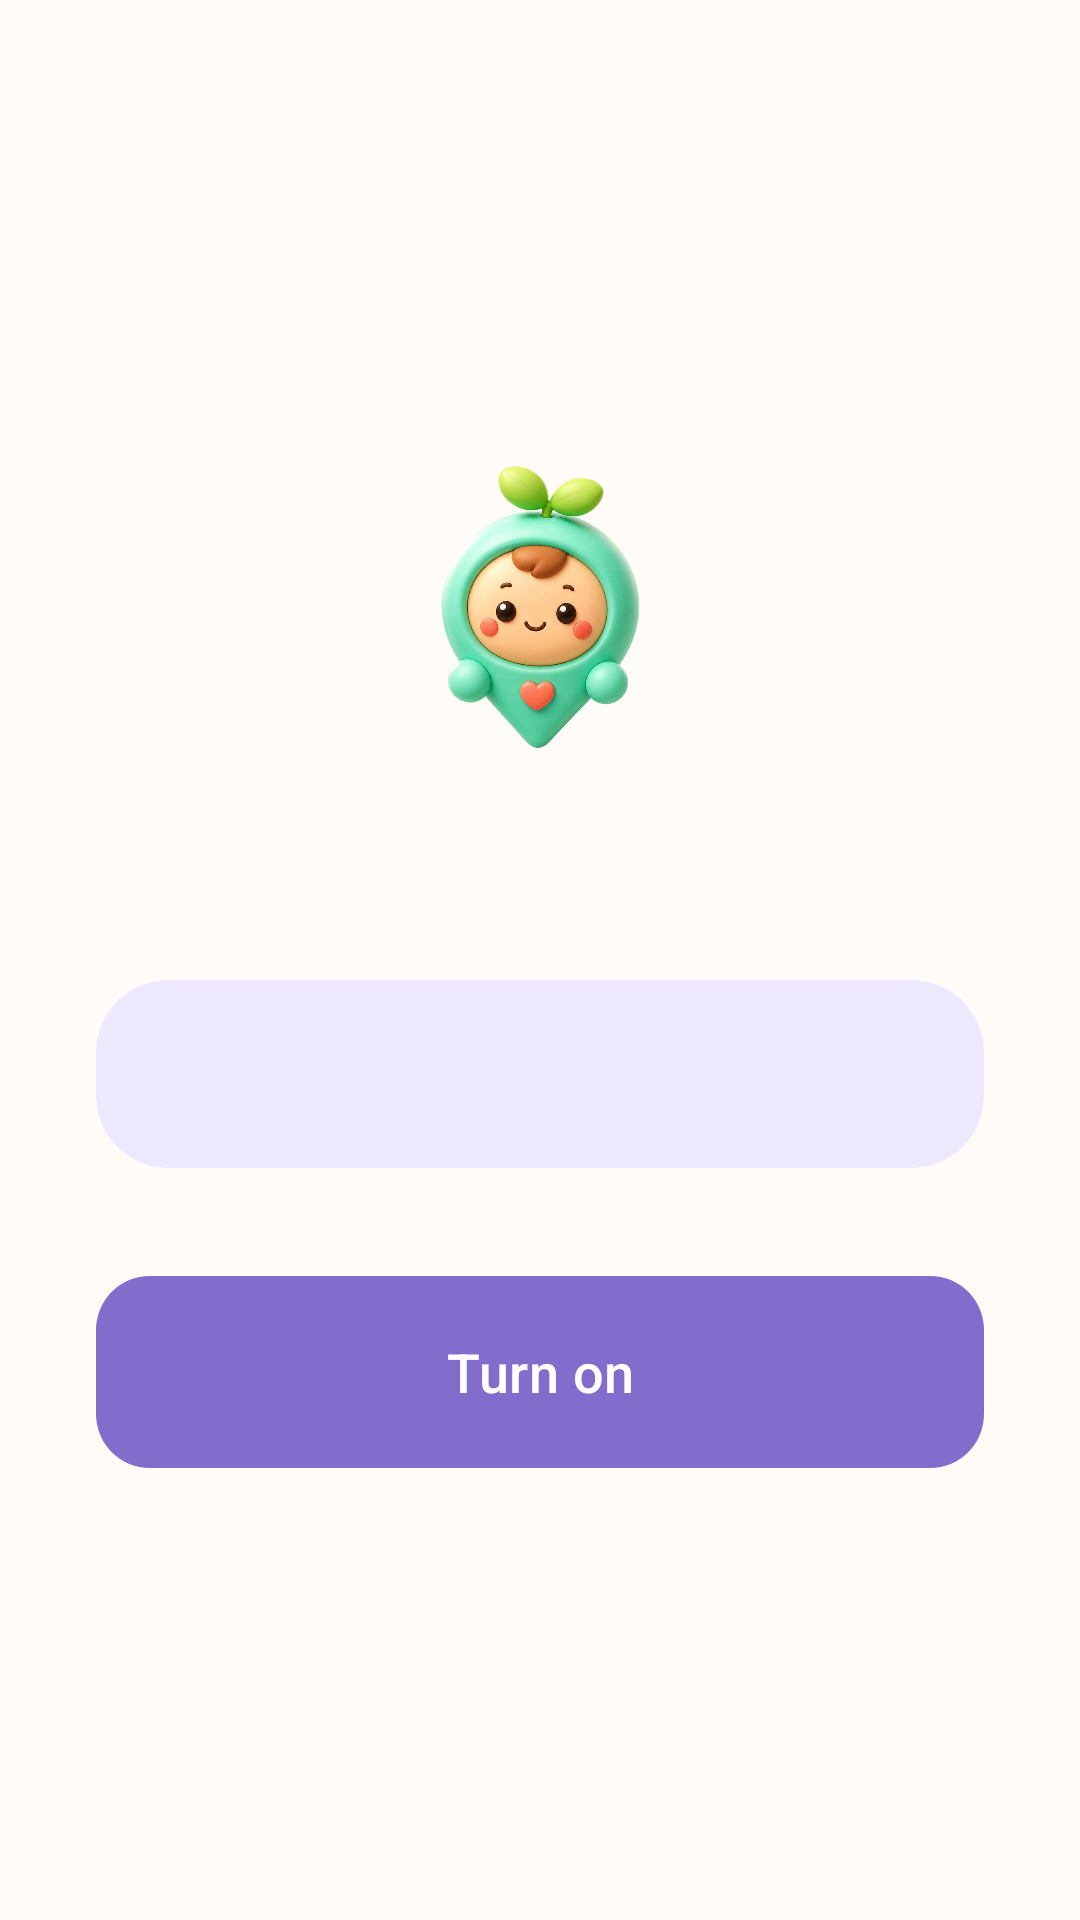

Where to tap for icons on this 1080 x 1920 app screen, as point (x, y):
mascot 3d: point (540, 607)
